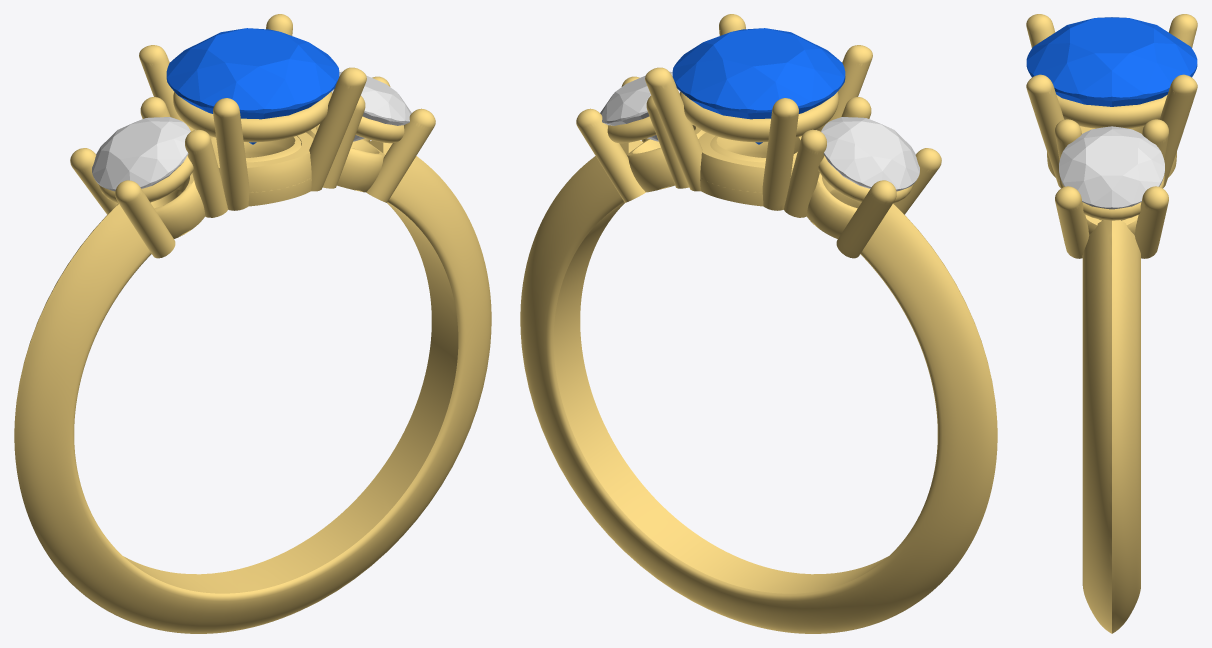
The model's file is bluesapphire-round-yellowgold-4prong-knifeedge-2stone.glb.
3 views of the same model, side by side, from view 1: azimuth 30°, elevation 25°; view 2: azimuth 150°, elevation 25°; view 3: azimuth 270°, elevation 25° (orthographic).
Visible parts, largest first — view 1: metal, stone, side.001, side; view 2: metal, stone, side.001, side; view 3: metal, stone, side.
Boxes of the visible parts, x1=… form: metal: x1=14, y1=14, x2=491, y2=633; stone: x1=166, y1=28, x2=339, y2=144; side.001: x1=92, y1=117, x2=190, y2=191; side: x1=331, y1=71, x2=411, y2=141; metal: x1=520, y1=14, x2=997, y2=633; stone: x1=672, y1=28, x2=845, y2=144; side.001: x1=821, y1=117, x2=919, y2=191; side: x1=600, y1=71, x2=680, y2=141; metal: x1=1026, y1=14, x2=1197, y2=633; stone: x1=1026, y1=17, x2=1197, y2=106; side: x1=1059, y1=126, x2=1164, y2=209.
Bounding box in the file's own units: 20.5 × 23.81 × 6.45.
